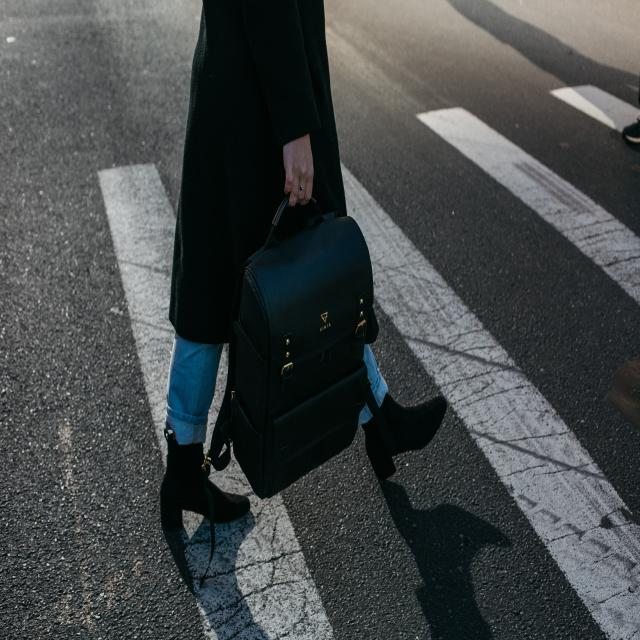backpack: (214, 198, 373, 502)
